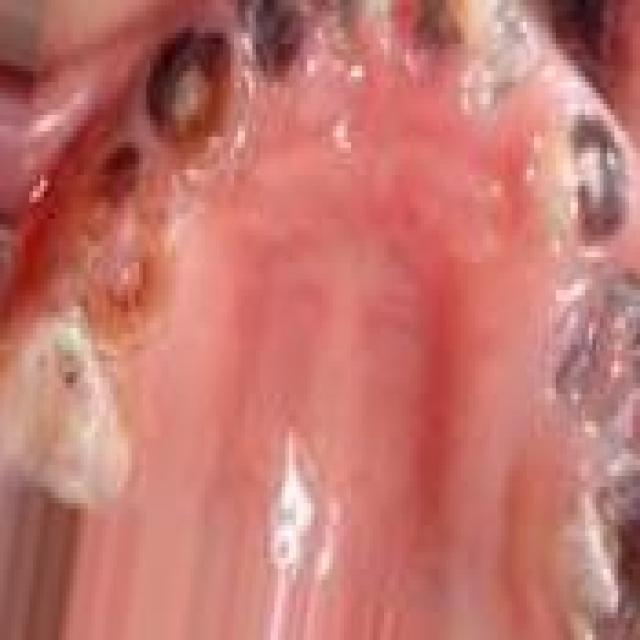caries: (528, 261, 640, 490), (75, 138, 168, 350), (144, 17, 252, 185), (533, 92, 640, 259), (448, 0, 548, 128)
